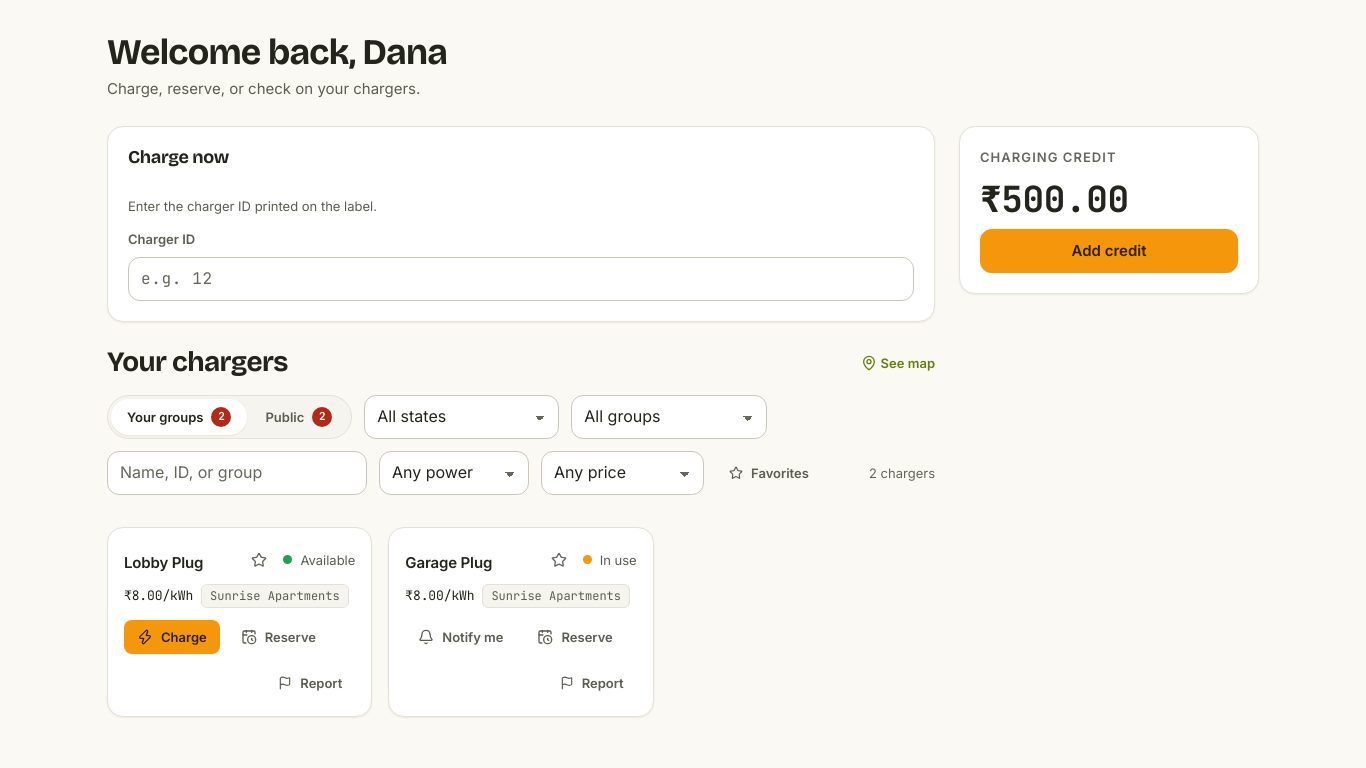
Test: Dashboard — charger grid › defaults to "Your groups" when private chargers exist; Public shows the rest
Check: the heading "Lobby Plug" is shown, box [124,553,203,572]
Check: the heading "Garage Plug" is shown, box [405,553,492,572]
Step 1. Click the button "Public 2" → (299, 417), box [250,399,348,435]
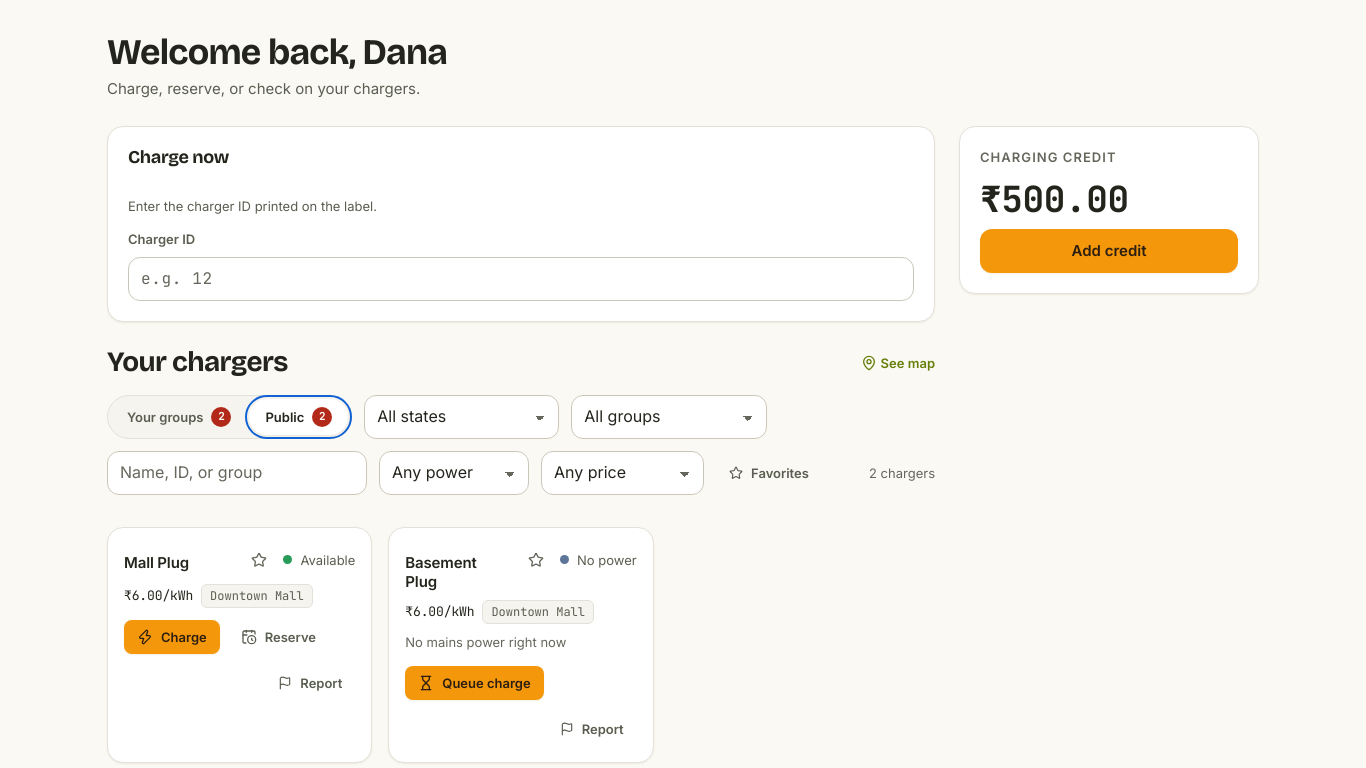
Check: the heading "Mall Plug" is shown, box [124,553,189,572]
Check: the heading "Basement Plug" is shown, box [405,553,477,591]
Check: the heading "Lobby Plug" is gone
